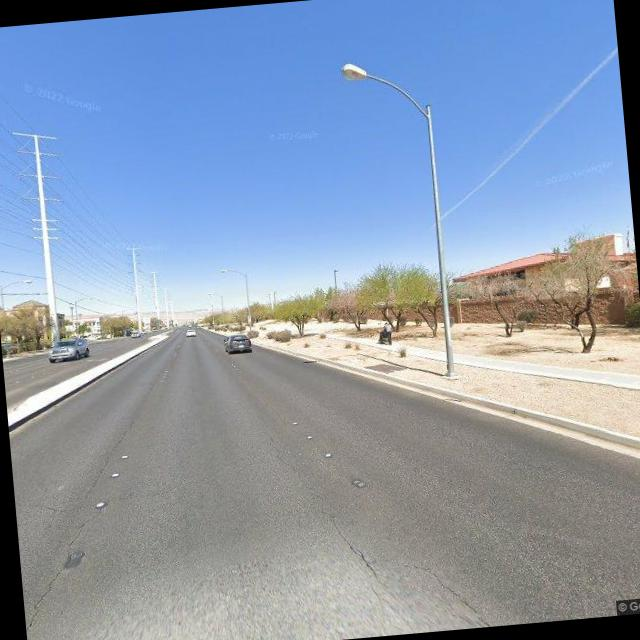pothole: (15, 496, 122, 640), (392, 550, 498, 632), (326, 508, 379, 586)
